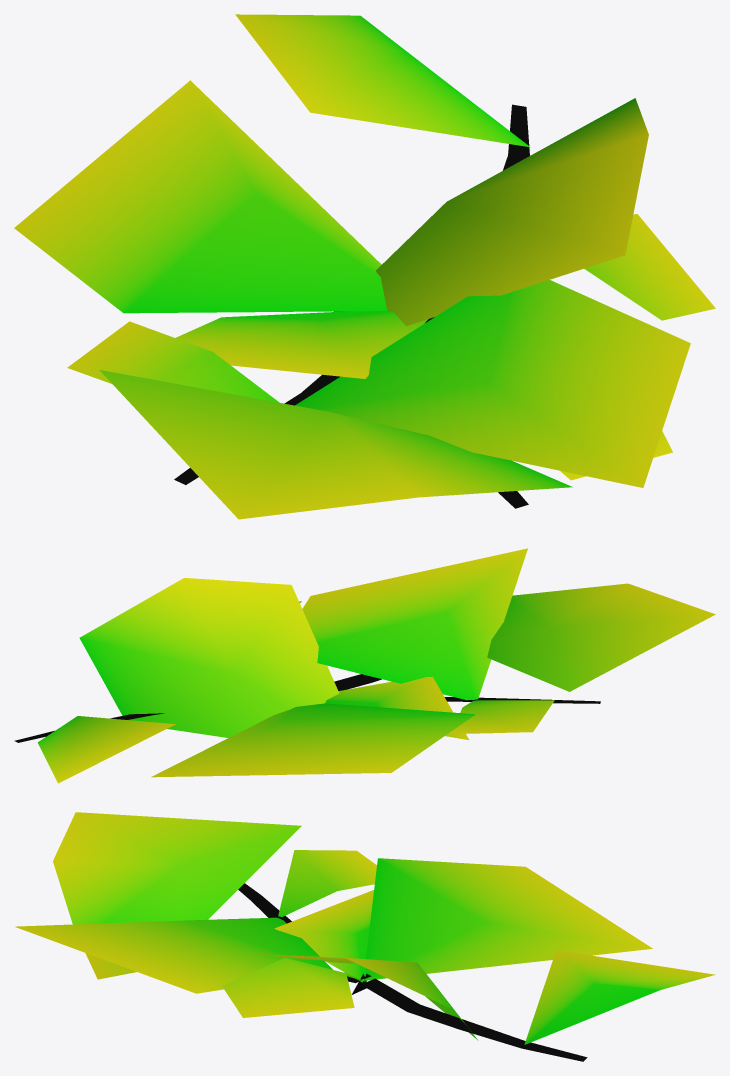
File: Mile-a-minute Vine_LOD1_Var9_sfqns.fbx
3 views of the same model, one above another, from view 1: azimuth 30°, elevation 25°; view 2: azimuth 150°, elevation 25°; view 3: azimuth 270°, elevation 25° (orthographic). The views are drawn at different scales.
Parts seen in each view (by area): view 1: _5c1a_Var9_LOD1; view 2: _5c1a_Var9_LOD1; view 3: _5c1a_Var9_LOD1.
Part boxes in pixels (<box>): _5c1a_Var9_LOD1: <box>14,14,715,519</box>; _5c1a_Var9_LOD1: <box>14,548,715,783</box>; _5c1a_Var9_LOD1: <box>15,812,715,1061</box>.
Size of the model in its own units: 9.79 by 2.38 by 13.89.
